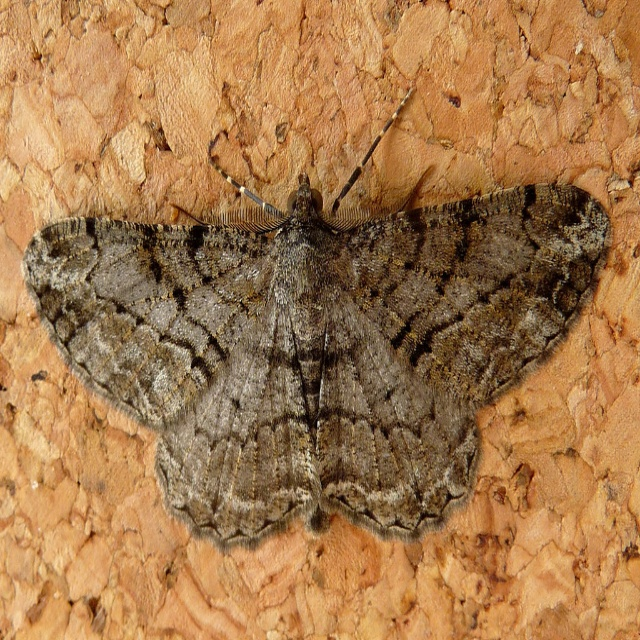Moths and butterflies: (19, 79, 614, 548)
